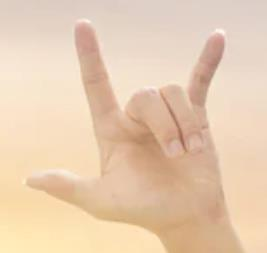back: (21, 15, 228, 221)
